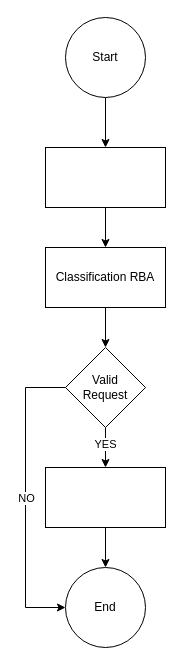
Image size: 183x665. Some labels were removed from this diagram. The shapes that lost their labels are listed below. From the top down, each one's box as (x1, y1, x2, y2) in pixels, then its label:
(44, 146, 166, 208): Request Endpoint
(44, 466, 166, 528): FHIR Data
